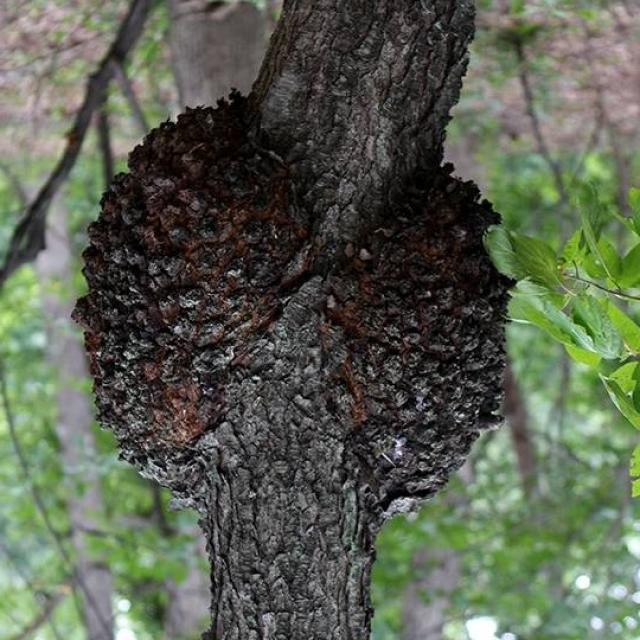Black_knot: (70, 0, 518, 639), (69, 84, 316, 497)
